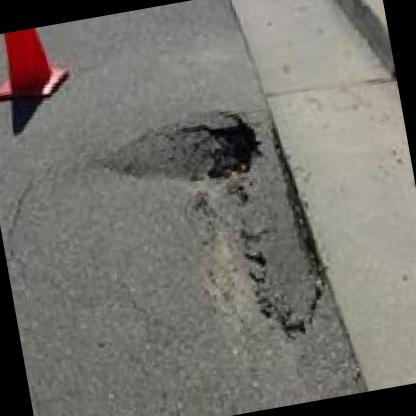pothole: (216, 99, 340, 346), (98, 107, 268, 200)
